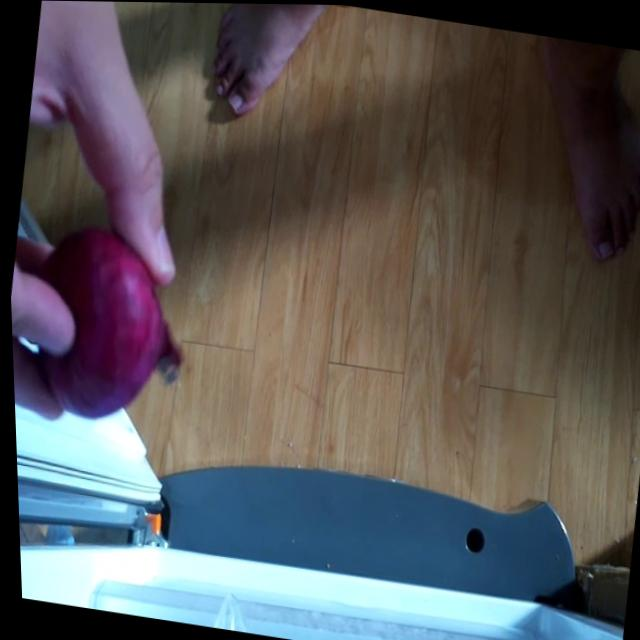onion: (6, 214, 177, 428)
